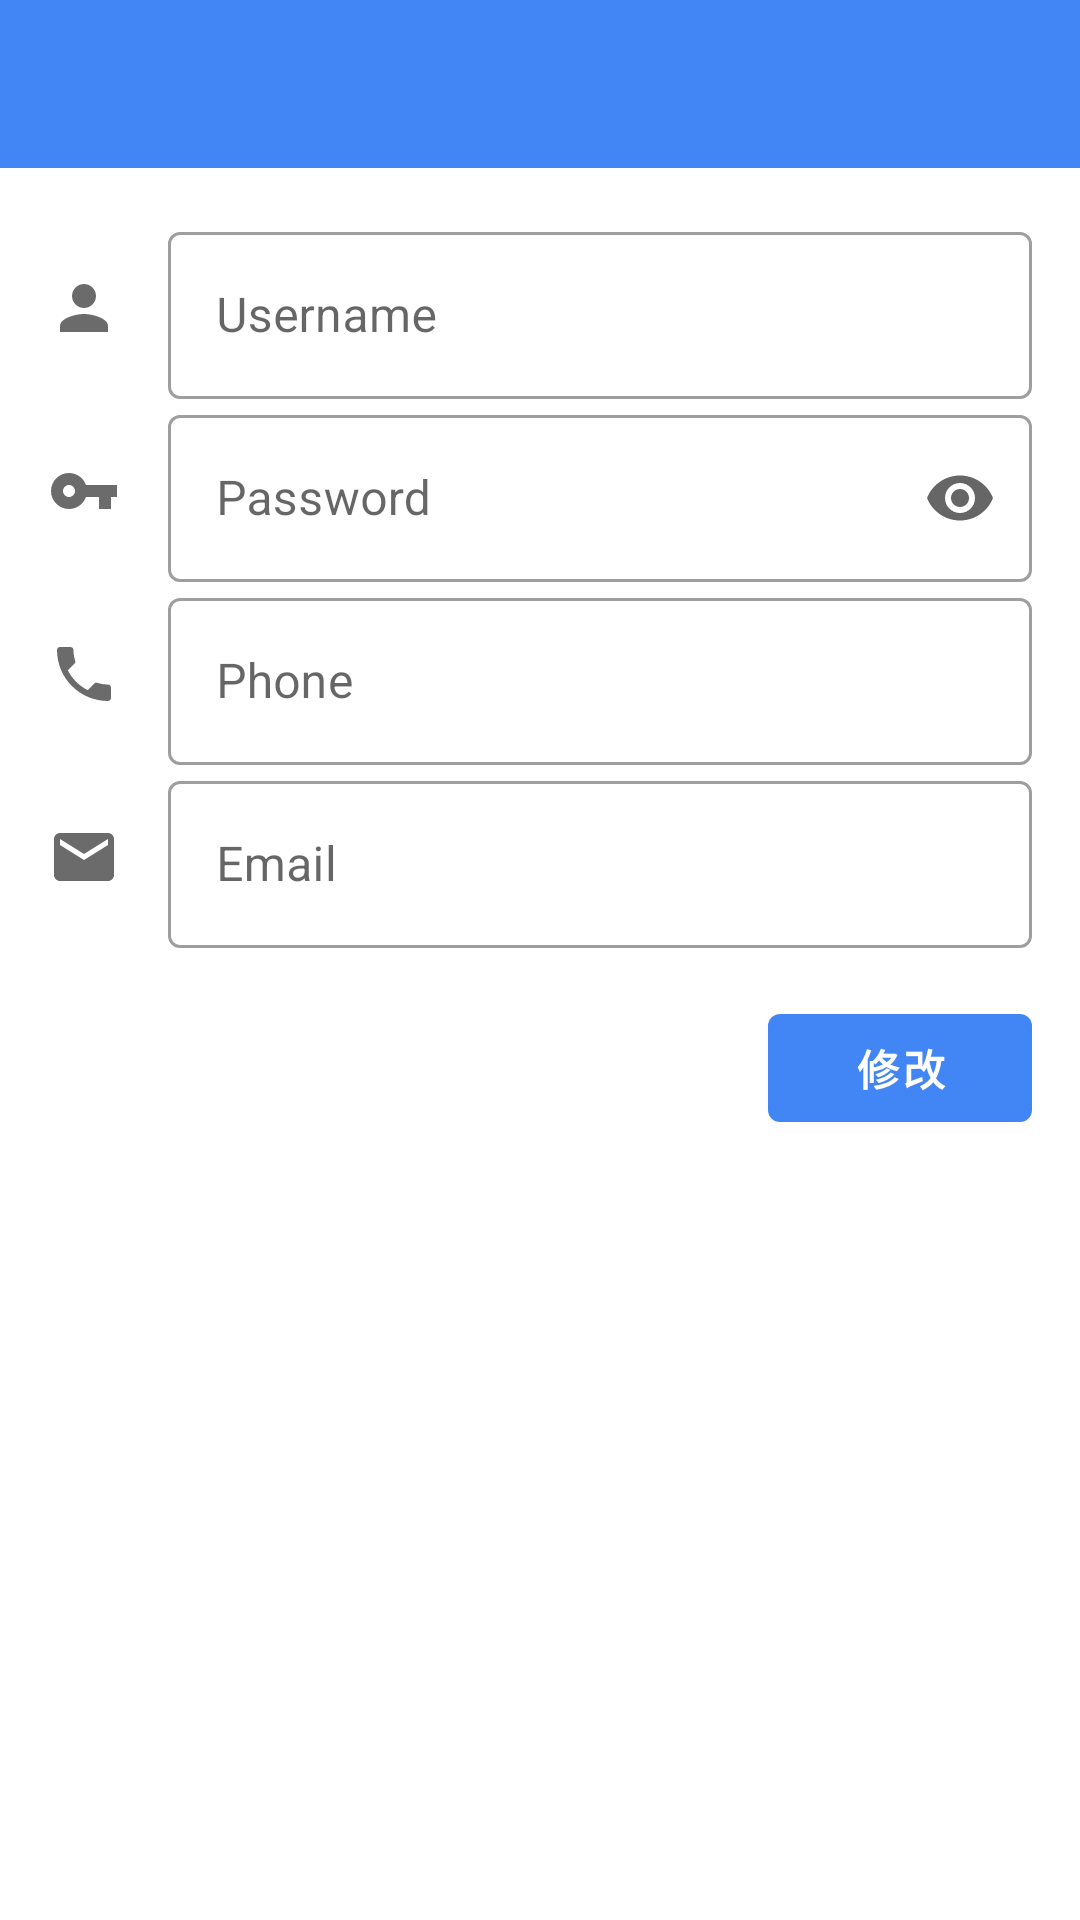

Screen size 1080 x 1920. Icon name, then its center in pixels as point (x, y):
person: point (84, 308)
vpn key: point (84, 491)
